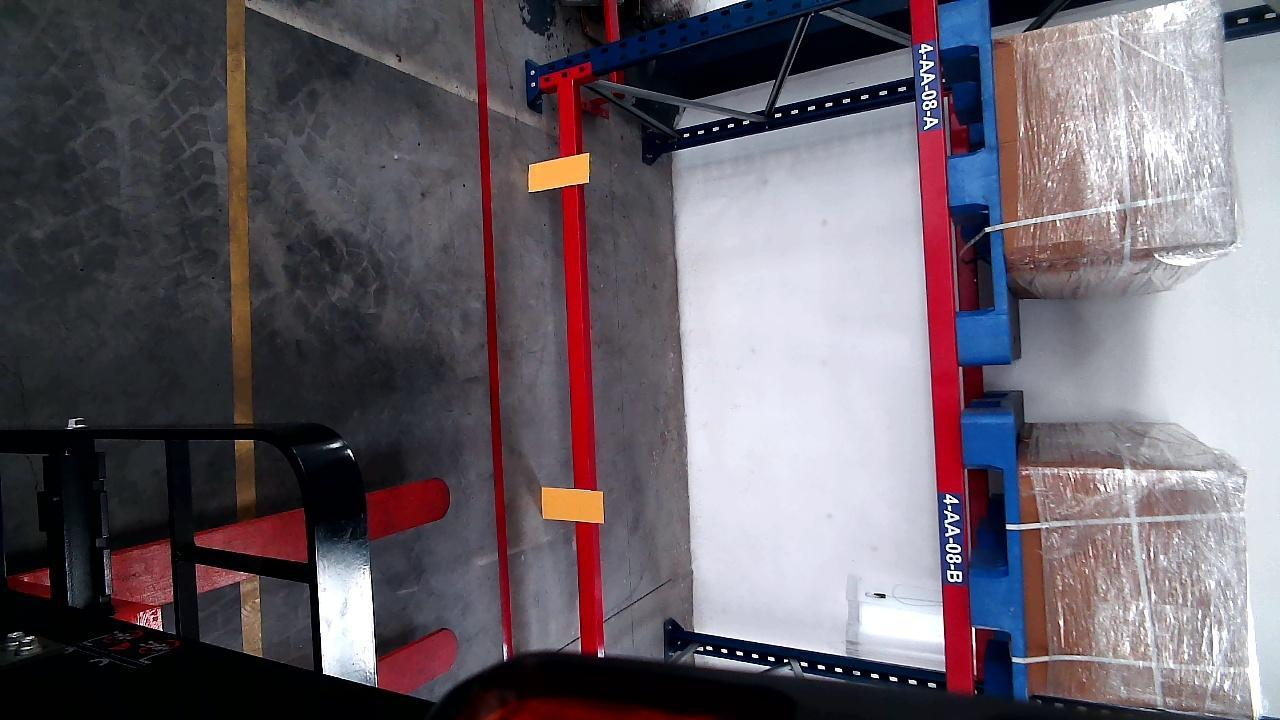red_line: (473, 4, 514, 659)
yellow_line: (227, 2, 260, 660)
